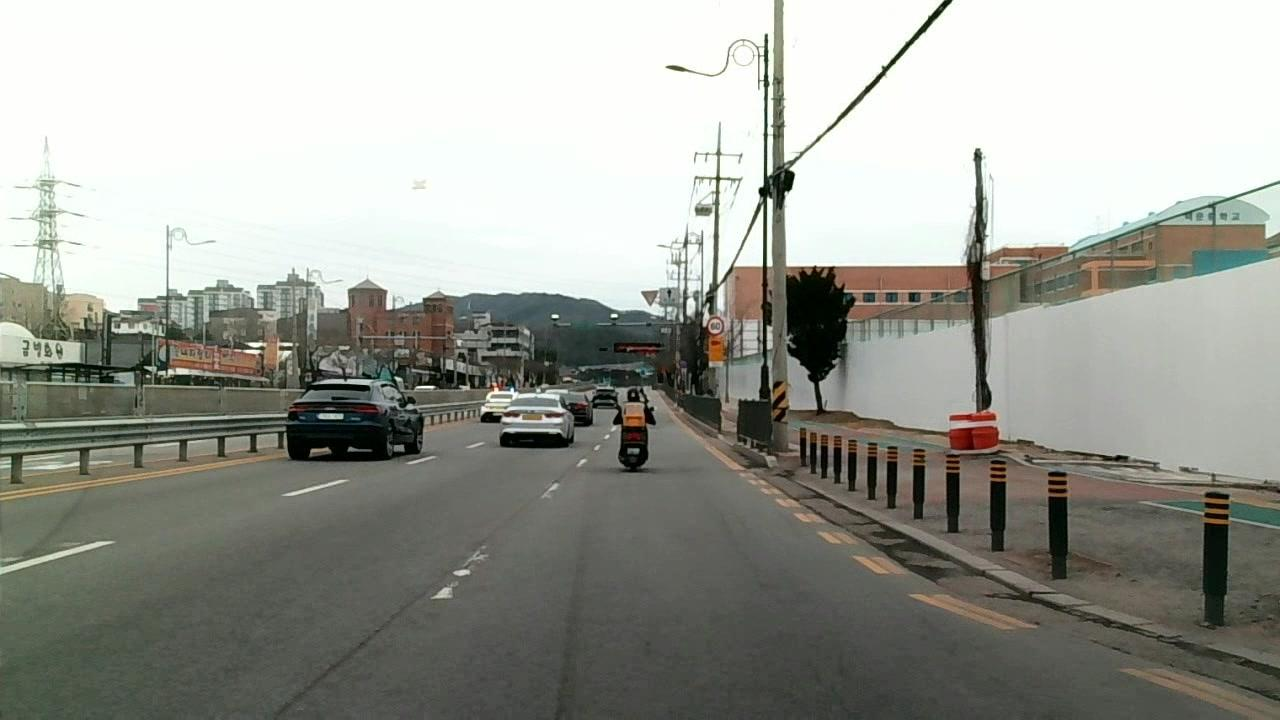vcrack: (255, 619, 396, 720)
